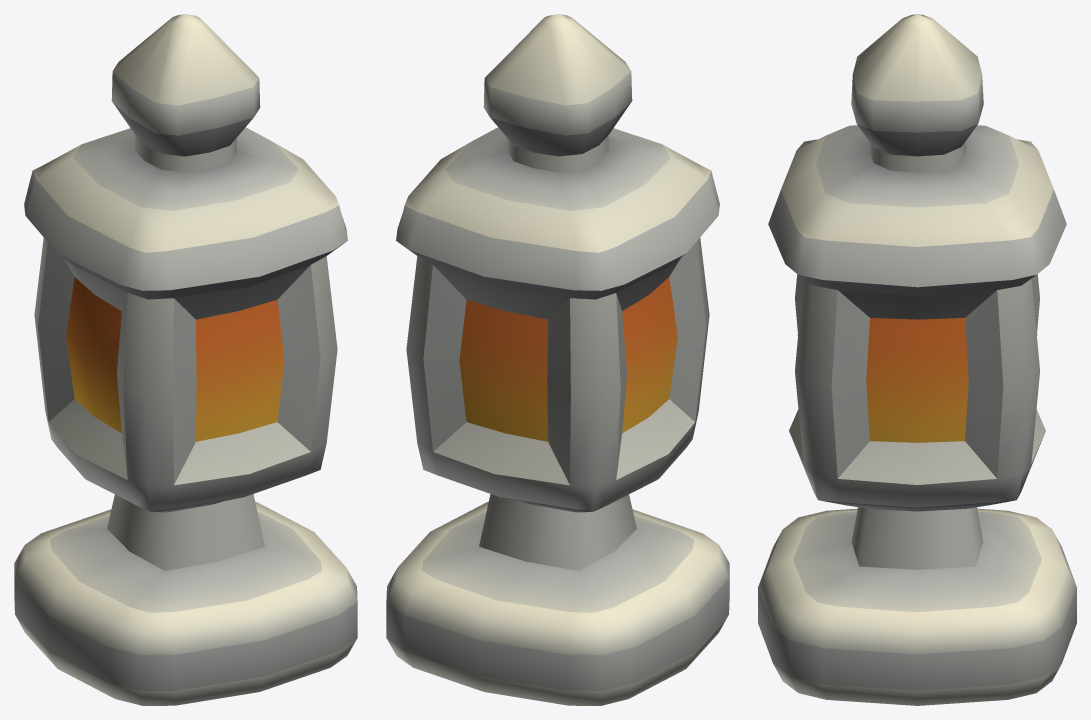
File: lamp_pillar_top2_LOD_setup.fbx
The picture shows the model from 3 angles, left to right: view 1: azimuth 30°, elevation 25°; view 2: azimuth 150°, elevation 25°; view 3: azimuth 270°, elevation 25°; orthographic projection.
Parts seen in each view (by area): view 1: lamp_pillar_top2_LOD0; view 2: lamp_pillar_top2_LOD0; view 3: lamp_pillar_top2_LOD0.
Boxes of the visible parts, x1,y1,x2,y2 form: lamp_pillar_top2_LOD0: [14, 14, 357, 705]; lamp_pillar_top2_LOD0: [386, 14, 729, 705]; lamp_pillar_top2_LOD0: [758, 14, 1076, 705].
Size of what is drawn, in the model's own units: 67.52 by 149 by 67.52.
